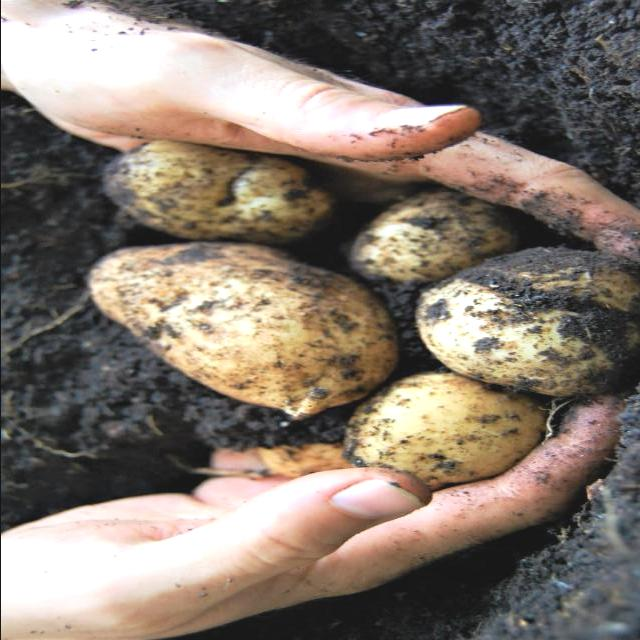potato: (87, 246, 396, 411), (417, 253, 639, 393), (102, 141, 329, 244), (348, 370, 542, 481), (348, 192, 506, 289), (253, 438, 359, 488)
